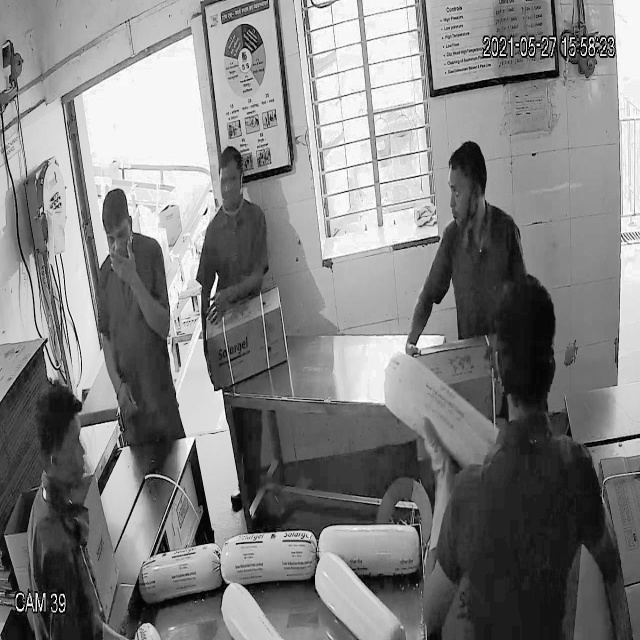Sin_gafas: (442, 179, 485, 209), (99, 222, 134, 252), (214, 169, 249, 192)
